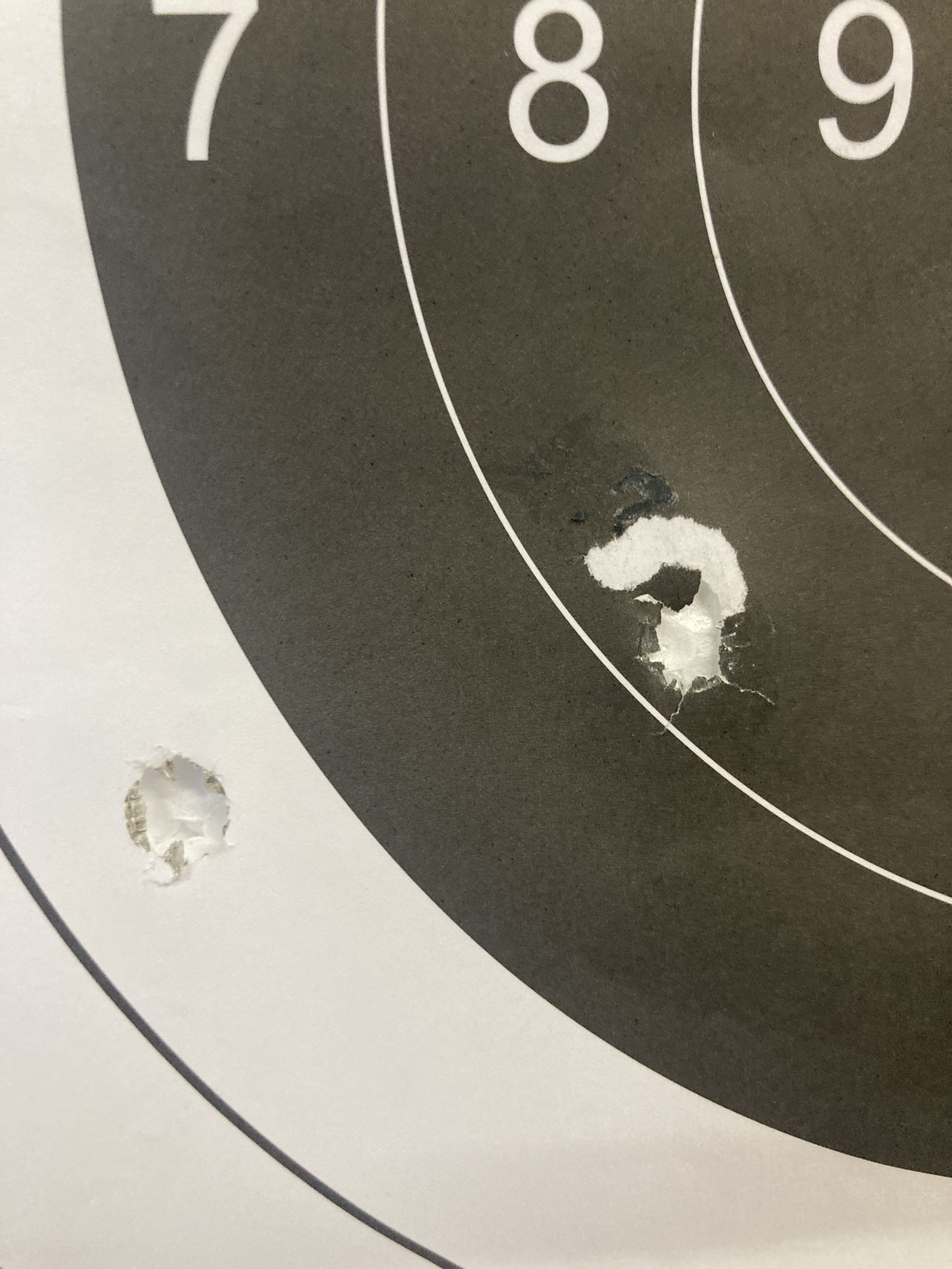hole: (548, 507, 756, 733), (98, 724, 271, 916)
